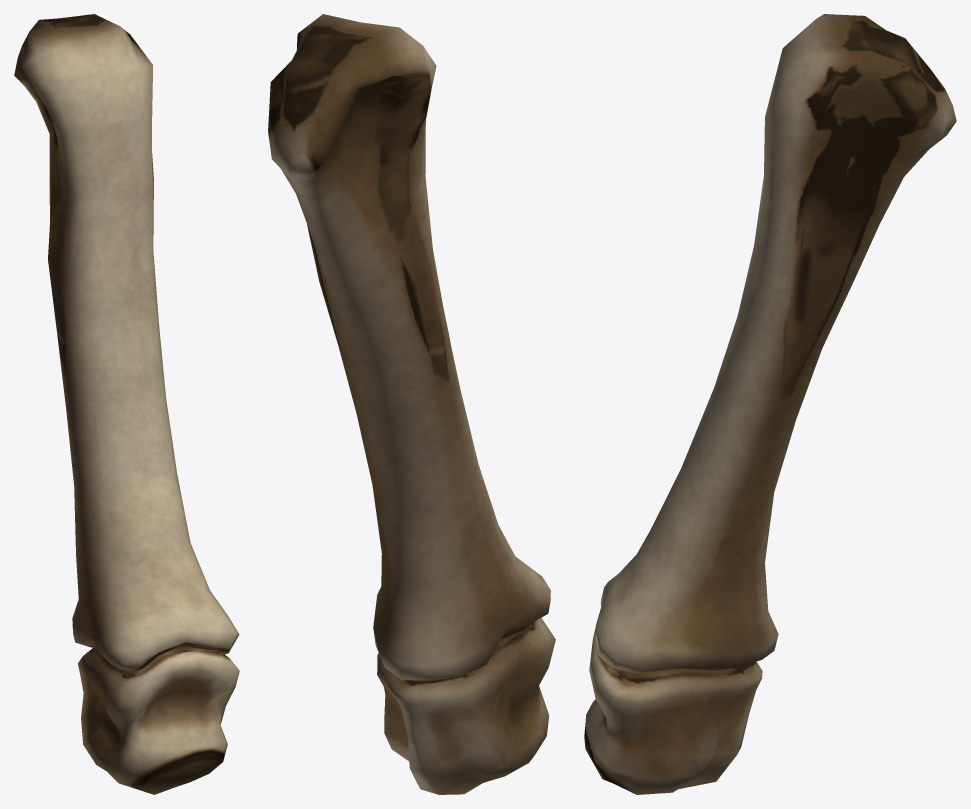
The model's file is Metacarpal_III.glb.
3 views of the same model, side by side, from view 1: azimuth 30°, elevation 25°; view 2: azimuth 150°, elevation 25°; view 3: azimuth 270°, elevation 25° (orthographic). The views are drawn at different scales.
Visible parts, largest first — view 1: Metacarpal_III_Right1:Group54261; view 2: Metacarpal_III_Right1:Group54261; view 3: Metacarpal_III_Right1:Group54261.
Boxes of the visible parts, x1=… form: Metacarpal_III_Right1:Group54261: x1=14, y1=14, x2=239, y2=794; Metacarpal_III_Right1:Group54261: x1=268, y1=14, x2=555, y2=794; Metacarpal_III_Right1:Group54261: x1=584, y1=14, x2=956, y2=794.
Size of the model in its own units: 10.5 by 54.62 by 24.13.
Materials: 1 (1 with a texture image).
